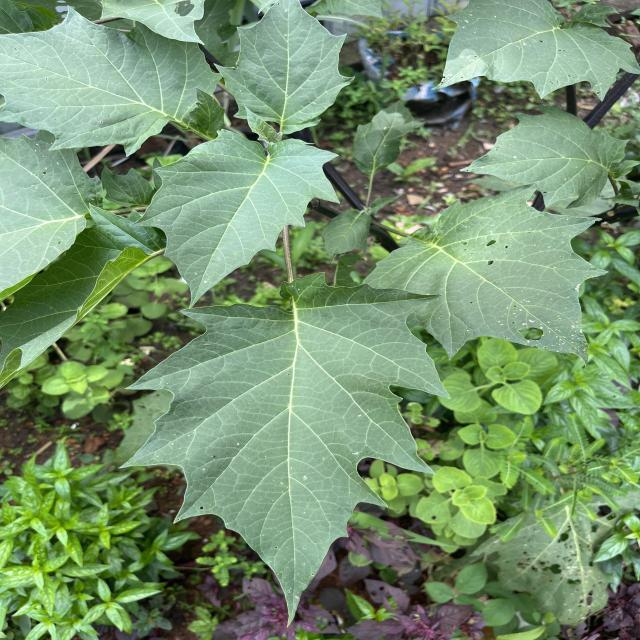Datura metal linn: (115, 268, 456, 631), (357, 176, 613, 370), (127, 125, 345, 308), (426, 0, 640, 105), (210, 0, 358, 136), (456, 100, 632, 212)
